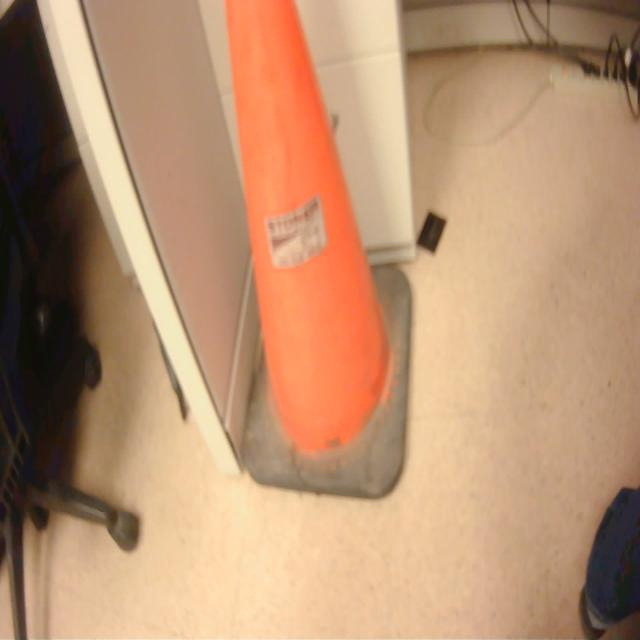traffic cone: (217, 2, 429, 511)
